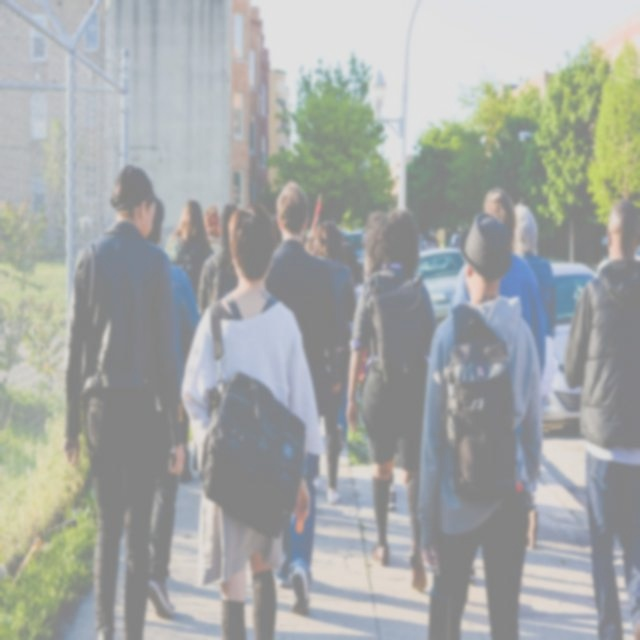pessoa: (174, 186, 326, 640), (53, 150, 189, 640), (418, 212, 544, 638), (340, 205, 450, 596), (545, 191, 640, 640), (264, 183, 340, 616), (139, 195, 200, 619), (360, 204, 440, 516), (446, 186, 548, 387), (306, 218, 358, 506), (511, 202, 559, 504), (165, 198, 215, 487), (338, 242, 364, 453), (196, 202, 240, 318), (554, 270, 596, 334), (406, 248, 466, 278), (202, 200, 222, 240), (299, 230, 321, 258), (268, 210, 284, 247)
